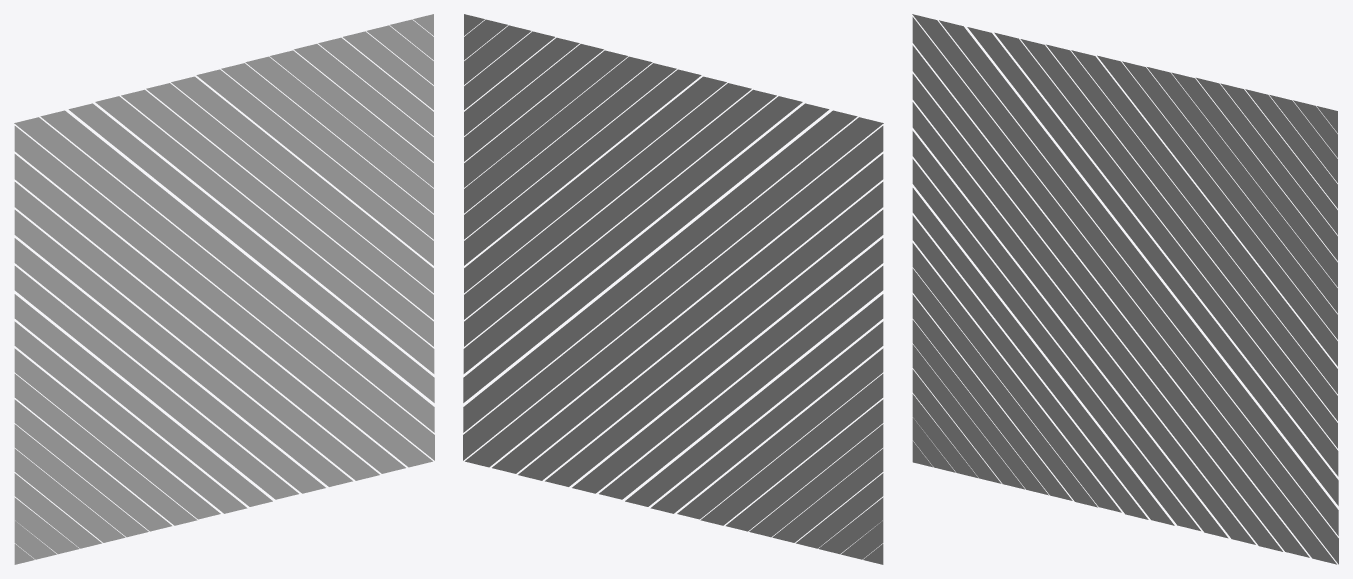
The model's file is diagonal.gltf.
The picture shows the model from 3 angles, left to right: view 1: azimuth 30°, elevation 25°; view 2: azimuth 150°, elevation 25°; view 3: azimuth 330°, elevation 25°; orthographic projection.
Parts seen in each view (by area): view 1: diagonal; view 2: diagonal; view 3: diagonal.
Boxes of the visible parts, x1=… form: diagonal: x1=14, y1=14, x2=434, y2=564; diagonal: x1=463, y1=14, x2=883, y2=564; diagonal: x1=912, y1=14, x2=1338, y2=564.
Size of the model in its own units: 712 by 725 by 0.
Materials: 34 (34 with a texture image).
